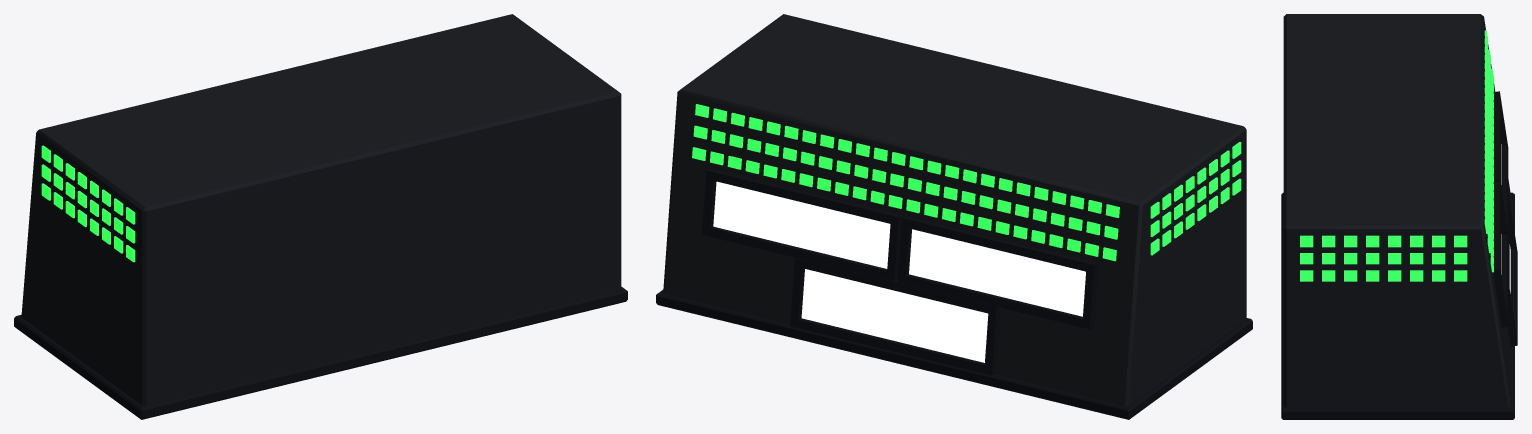
File: deck_triple_sign.glb
3 views of the same model, side by side, from view 1: azimuth 30°, elevation 25°; view 2: azimuth 150°, elevation 25°; view 3: azimuth 270°, elevation 25° (orthographic). The views are drawn at different scales.
Visible parts, largest first — view 1: deck_triple_sign_deco_body, deck_triple_sign_deco_trim, deck_triple_sign_deco_led; view 2: deck_triple_sign_deco_body, deck_triple_sign_acrylic_sign, deck_triple_sign_deco_trim, deck_triple_sign_deco_led; view 3: deck_triple_sign_deco_body, deck_triple_sign_deco_trim, deck_triple_sign_deco_led.
Boxes of the visible parts, x1,y1,x2,y2 form: deck_triple_sign_deco_body: (21, 14, 621, 406); deck_triple_sign_deco_trim: (14, 286, 627, 419); deck_triple_sign_deco_led: (41, 145, 135, 262); deck_triple_sign_deco_body: (663, 14, 1246, 406); deck_triple_sign_acrylic_sign: (713, 181, 1085, 362); deck_triple_sign_deco_trim: (656, 168, 1252, 419); deck_triple_sign_deco_led: (692, 104, 1241, 261); deck_triple_sign_deco_body: (1283, 14, 1510, 407); deck_triple_sign_deco_trim: (1281, 91, 1517, 419); deck_triple_sign_deco_led: (1300, 30, 1493, 281).
Bounding box in the file's own units: 2.14 × 0.88 × 0.9815.
